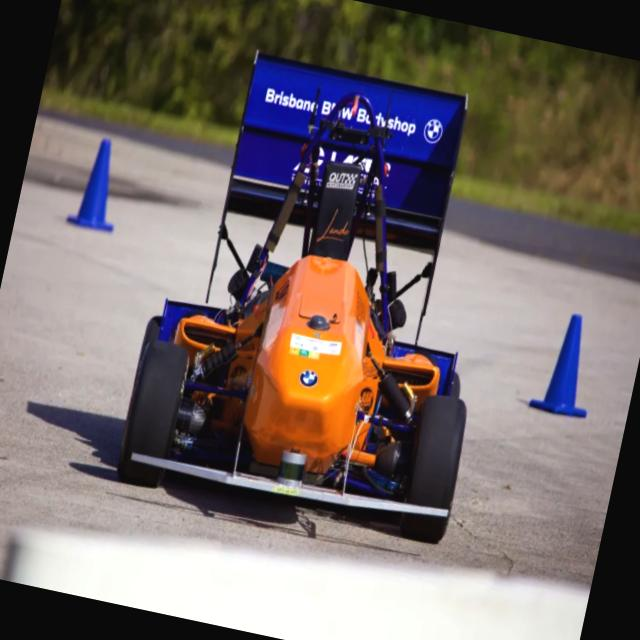blue_cone: (528, 310, 604, 420), (66, 134, 130, 232)
